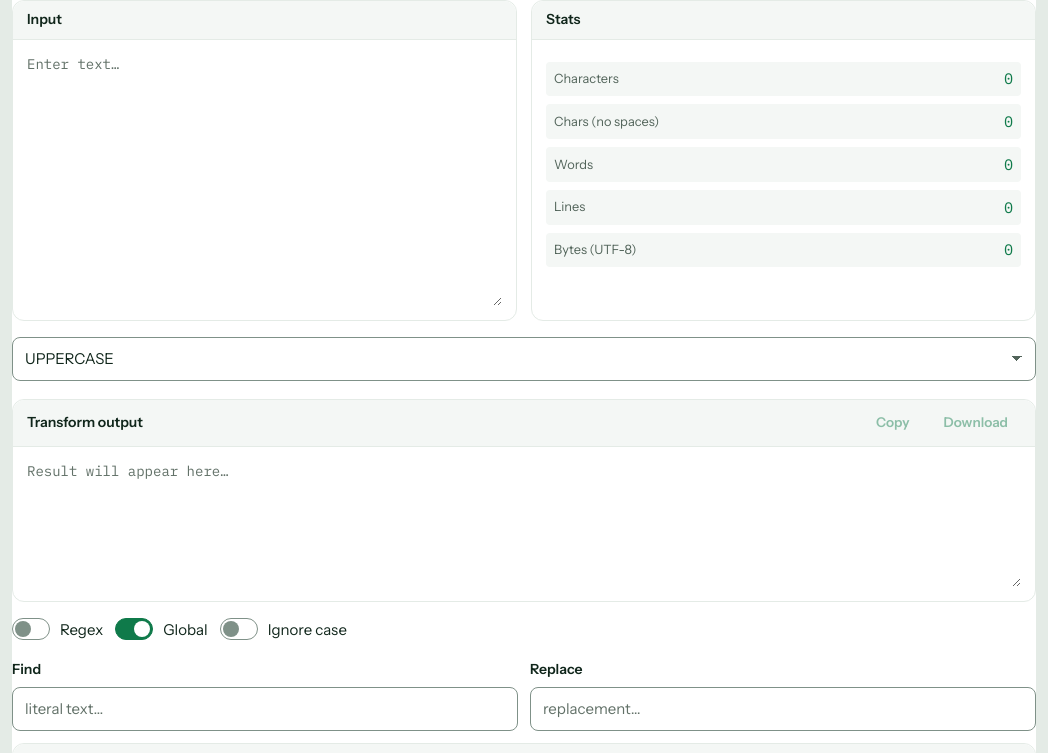
Scenario: StringUtilities › transforms to UPPERCASE
Type "hello world" into the text box with placeholder "Enter text…".
click(264, 180); type("hello world")  # box x1=27 y1=54 x2=502 y2=306
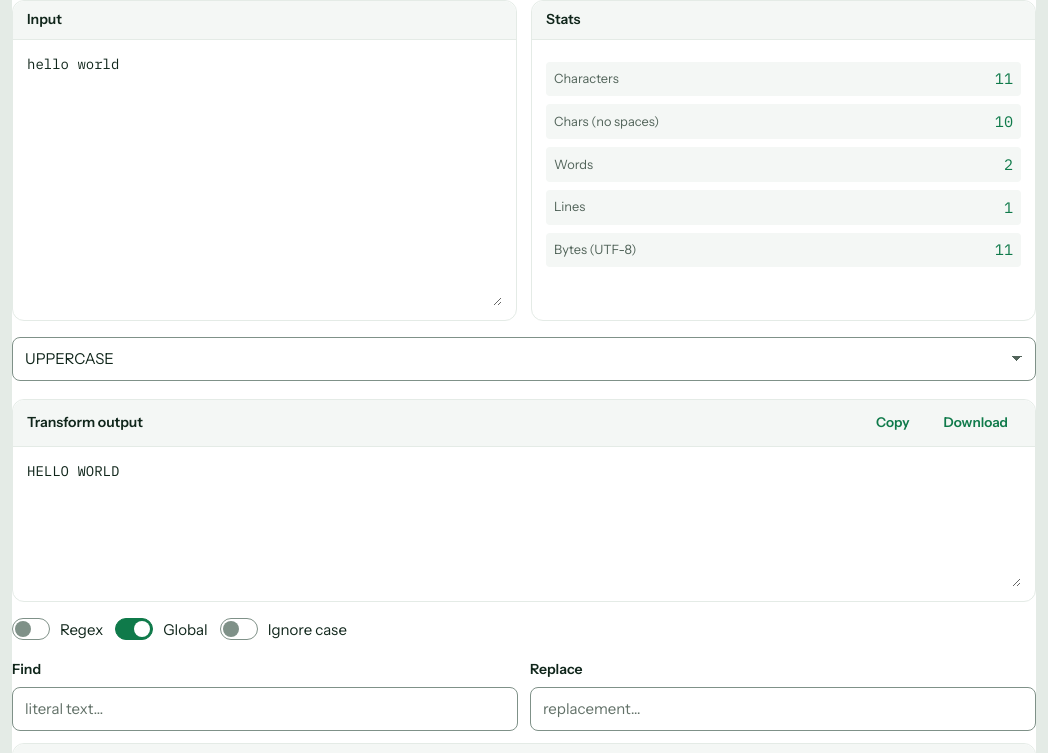
Expected: the text box with placeholder "Result will appear here…" below "Transform output" holds "HELLO WORLD", x1=27 y1=461 x2=1021 y2=587
